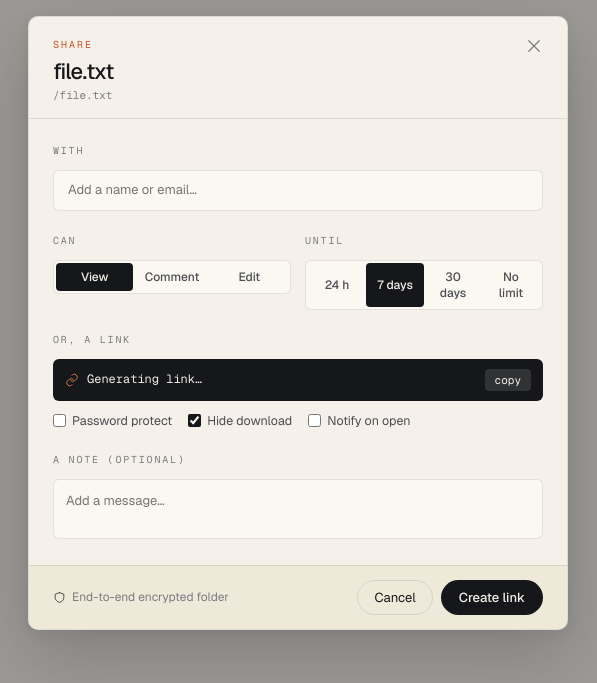
Test: ShareDialog › shows "copied" after the copy button is clicked
This screenshot has width=597, height=683.
Click the button "copy" at (508, 380), box [485,369,531,391]
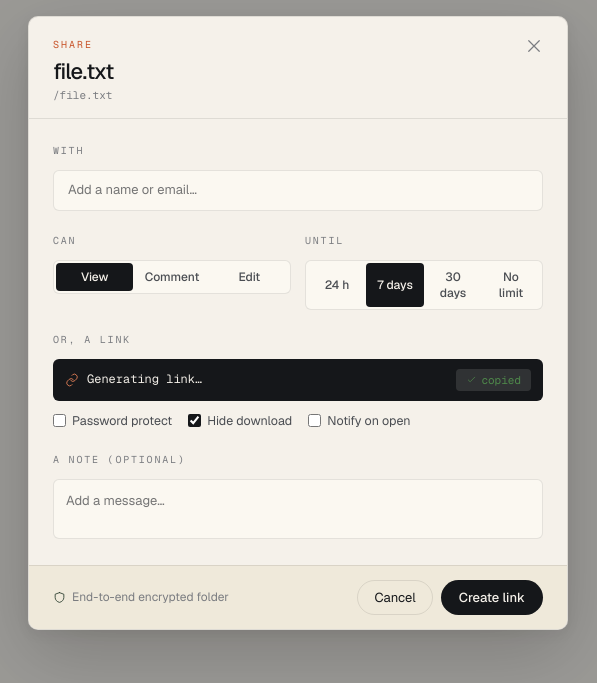
expect the button "copied" is shown: met, box [456,369,531,391]
